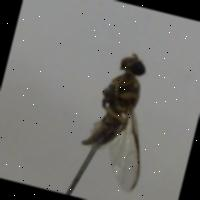Oriental-fruit-fly: (59, 41, 175, 198)
